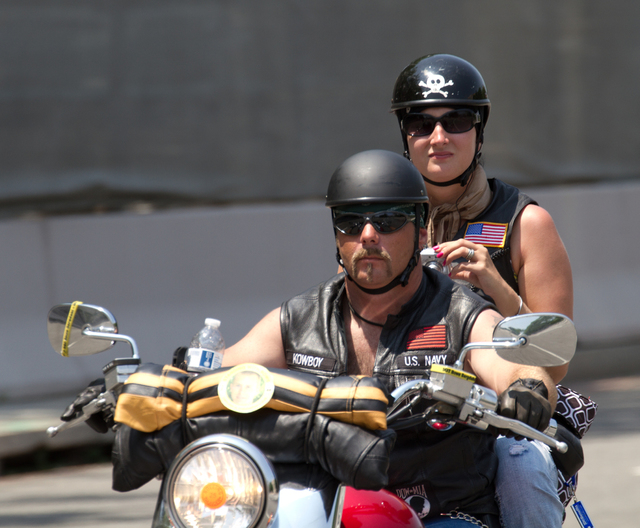helmet: (395, 55, 494, 119), (326, 151, 429, 209)
